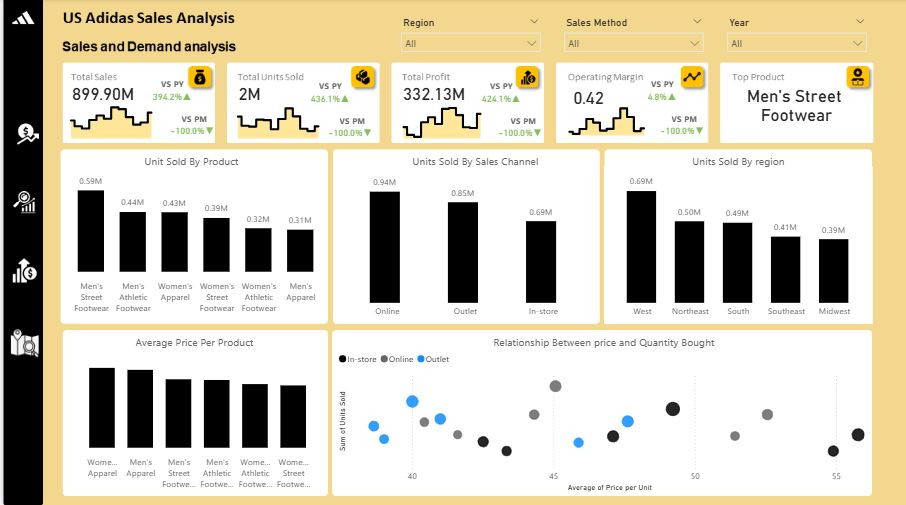

Layout of this report page (visuals, bound fields, positions):
{"tool":"powerbi","page":{"name":"Sales Performance And demand Analysis","canvas":[1280,720],"ordinal":1},"visuals":[{"type":"columnChart","fields":{"Category":["Data Sales Adidas (2).Product"],"Y":["Sum(Data Sales Adidas (2).Units Sold)"]},"box":[65.2,236.7,405.4,216.9],"z":0},{"type":"columnChart","fields":{"Category":["Data Sales Adidas (2).Sales Method"],"Y":["Sum(Data Sales Adidas (2).Units Sold)"]},"box":[470.6,236.7,369.9,223.9],"z":1000},{"type":"columnChart","fields":{"Y":["Sum(Data Sales Adidas (2).Units Sold)"],"Category":["Data Sales Adidas (2).Region"]},"box":[851.8,236.7,381.3,223.9],"z":2000},{"type":"columnChart","fields":{"Category":["Data Sales Adidas (2).Product"],"Y":["Avg(Data Sales Adidas (2).Price per Unit)"]},"box":[86.5,490.4,371.3,212.6],"z":3000},{"type":"scatterChart","fields":{"X":["Avg(Data Sales Adidas (2).Price per Unit)"],"Y":["Sum(Data Sales Adidas (2).Units Sold)"],"Category":["Data Sales Adidas (2).Product"],"Size":["Sum(Data Sales Adidas (2).Total Sales)"],"Series":["Data Sales Adidas (2).Sales Method"]},"box":[470.6,490.4,762.5,212.6],"z":4000},{"type":"card","fields":{"Values":["Data Sales Adidas (2).Total_Sales"]},"box":[70.9,107.7,141.7,52.4],"z":5000},{"type":"card","fields":{"Values":["Data Sales Adidas (2).Total_Units_Sold"]},"box":[309,106.3,80.8,53.9],"z":6000},{"type":"card","fields":{"Values":["Data Sales Adidas (2).Total_Profit"]},"box":[551.3,106.3,119.1,53.9],"z":7000},{"type":"card","fields":{"Values":["Data Sales Adidas (2).Averag_Operating_margin"]},"box":[763.9,117.6,131.8,42.5],"z":8000},{"type":"card","fields":{"Values":["Data Sales Adidas (2).Top Product Bought"]},"box":[1016.2,107.7,216.9,83.6],"z":9000},{"type":"shape","box":[172.9,472,197,28.3],"z":10000},{"type":"shape","box":[168.7,215.4,197,28.3],"z":11000},{"type":"shape","box":[571.2,215.4,197,28.3],"z":12000},{"type":"shape","box":[943.9,215.4,197,28.3],"z":13000},{"type":"shape","box":[678.9,472,345.8,28.3],"z":14000},{"type":"lineChart","fields":{"Y":["Sum(Data Sales Adidas (2).Total Sales)"],"Category":["Date_Table.Month"]},"box":[70.9,136.1,185.7,66.6],"z":15000},{"type":"lineChart","fields":{"Category":["Date_Table.Month"],"Y":["Data Sales Adidas (2).Total_Units_Sold"]},"box":[307.6,124.7,185.7,78],"z":16000},{"type":"lineChart","fields":{"Category":["Date_Table.Month"],"Y":["Data Sales Adidas (2).Total_Profit"]},"box":[542.8,138.9,178.6,63.8],"z":17000},{"type":"lineChart","fields":{"Category":["Date_Table.Month"],"Y":["Data Sales Adidas (2).Averag_Operating_margin"]},"box":[778.1,134.6,174.3,63.8],"z":18000},{"type":"shape","box":[202.7,106.3,75.1,28.3],"z":19000},{"type":"card","fields":{"Values":["Data Sales Adidas (2).YOY Sales"]},"box":[201.3,124.7,78,22.7],"z":20000},{"type":"shape","box":[233.9,155.9,75.1,28.3],"z":21000},{"type":"card","fields":{"Values":["Data Sales Adidas (2).MoM sales"]},"box":[229.6,172.9,78,22.7],"z":22000},{"type":"shape","box":[426.7,109.2,75.1,28.3],"z":23000},{"type":"card","fields":{"Values":["Data Sales Adidas (2).YOY Units"]},"box":[425.3,127.6,78,22.7],"z":24000},{"type":"shape","box":[457.9,158.8,75.1,28.3],"z":25000},{"type":"card","fields":{"Values":["Data Sales Adidas (2).MoM units"]},"box":[453.6,175.8,78,22.7],"z":26000},{"type":"shape","box":[669.1,109.2,75.1,28.3],"z":27000},{"type":"card","fields":{"Values":["Data Sales Adidas (2).YOY Profit"]},"box":[667.6,127.6,78,22.7],"z":28000},{"type":"shape","box":[700.2,158.8,75.1,28.3],"z":29000},{"type":"card","fields":{"Values":["Data Sales Adidas (2).MoM Profit"]},"box":[694.5,175.7,78,22.7],"z":30000},{"type":"shape","box":[897.2,106.3,75.1,28.3],"z":31000},{"type":"card","fields":{"Values":["Data Sales Adidas (2).YOY operating margin"]},"box":[895.8,124.8,78,22.7],"z":32000},{"type":"shape","box":[928.4,156,75.1,28.3],"z":33000},{"type":"card","fields":{"Values":["Data Sales Adidas (2).MoM Margin"]},"box":[924.2,173,78,22.7],"z":34000},{"type":"slicer","fields":{"Values":["Date_Table.Main_date.Variation.Date Hierarchy.Year","Date_Table.Main_date.Variation.Date Hierarchy.Quarter","Date_Table.Main_date.Variation.Date Hierarchy.Month","Date_Table.Main_date.Variation.Date Hierarchy.Day"]},"box":[1016.2,19.8,218.3,56.7],"z":35000},{"type":"slicer","fields":{"Values":["Data Sales Adidas (2).Sales Method"]},"box":[785.2,19.8,218.3,56.7],"z":36000},{"type":"slicer","fields":{"Values":["Data Sales Adidas (2).Region"]},"box":[554.2,19.8,218.3,56.7],"z":37000},{"type":"image","box":[0.5,170.1,70.9,41.1],"z":37001},{"type":"image","box":[2.5,266,55.3,42.5],"z":37002},{"type":"image","box":[2.5,363.3,55.3,43.9],"z":37003},{"type":"image","box":[2.5,462,55.3,52.4],"z":37004}]}

Visuals, with their boxes on the page's 1280x720 design canvas (x1, y1, x2, y2). These are canvas units, not pixel positions in the 906x505 screenshot, which may show the page scaled, cropped or inside an application window:
columnChart - Data Sales Adidas (2).Product x Sum(Data Sales Adidas (2).Units Sold): (65, 237, 471, 454)
columnChart - Data Sales Adidas (2).Sales Method x Sum(Data Sales Adidas (2).Units Sold): (471, 237, 840, 461)
columnChart - Sum(Data Sales Adidas (2).Units Sold) x Data Sales Adidas (2).Region: (852, 237, 1233, 461)
columnChart - Data Sales Adidas (2).Product x Avg(Data Sales Adidas (2).Price per Unit): (86, 490, 458, 703)
scatterChart - Avg(Data Sales Adidas (2).Price per Unit) x Sum(Data Sales Adidas (2).Units Sold): (471, 490, 1233, 703)
card - Data Sales Adidas (2).Total_Sales: (71, 108, 213, 160)
card - Data Sales Adidas (2).Total_Units_Sold: (309, 106, 390, 160)
card - Data Sales Adidas (2).Total_Profit: (551, 106, 670, 160)
card - Data Sales Adidas (2).Averag_Operating_margin: (764, 118, 896, 160)
card - Data Sales Adidas (2).Top Product Bought: (1016, 108, 1233, 191)
shape: (173, 472, 370, 500)
shape: (169, 215, 366, 244)
shape: (571, 215, 768, 244)
shape: (944, 215, 1141, 244)
shape: (679, 472, 1025, 500)
lineChart - Sum(Data Sales Adidas (2).Total Sales) x Date_Table.Month: (71, 136, 257, 203)
lineChart - Date_Table.Month x Data Sales Adidas (2).Total_Units_Sold: (308, 125, 493, 203)
lineChart - Date_Table.Month x Data Sales Adidas (2).Total_Profit: (543, 139, 721, 203)
lineChart - Date_Table.Month x Data Sales Adidas (2).Averag_Operating_margin: (778, 135, 952, 198)
shape: (203, 106, 278, 135)
card - Data Sales Adidas (2).YOY Sales: (201, 125, 279, 147)
shape: (234, 156, 309, 184)
card - Data Sales Adidas (2).MoM sales: (230, 173, 308, 196)
shape: (427, 109, 502, 138)
card - Data Sales Adidas (2).YOY Units: (425, 128, 503, 150)
shape: (458, 159, 533, 187)
card - Data Sales Adidas (2).MoM units: (454, 176, 532, 198)
shape: (669, 109, 744, 138)
card - Data Sales Adidas (2).YOY Profit: (668, 128, 746, 150)
shape: (700, 159, 775, 187)
card - Data Sales Adidas (2).MoM Profit: (694, 176, 772, 198)
shape: (897, 106, 972, 135)
card - Data Sales Adidas (2).YOY operating margin: (896, 125, 974, 148)
shape: (928, 156, 1004, 184)
card - Data Sales Adidas (2).MoM Margin: (924, 173, 1002, 196)
slicer - Date_Table.Main_date.Variation.Date Hierarchy.Year x Date_Table.Main_date.Variation.Date Hierarchy.Quarter: (1016, 20, 1234, 76)
slicer - Data Sales Adidas (2).Sales Method: (785, 20, 1004, 76)
slicer - Data Sales Adidas (2).Region: (554, 20, 772, 76)
image: (0, 170, 71, 211)
image: (2, 266, 58, 308)
image: (2, 363, 58, 407)
image: (2, 462, 58, 514)
